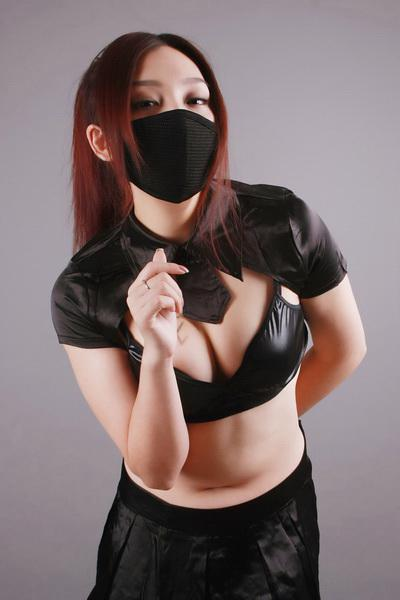OK: (114, 72, 240, 198)
